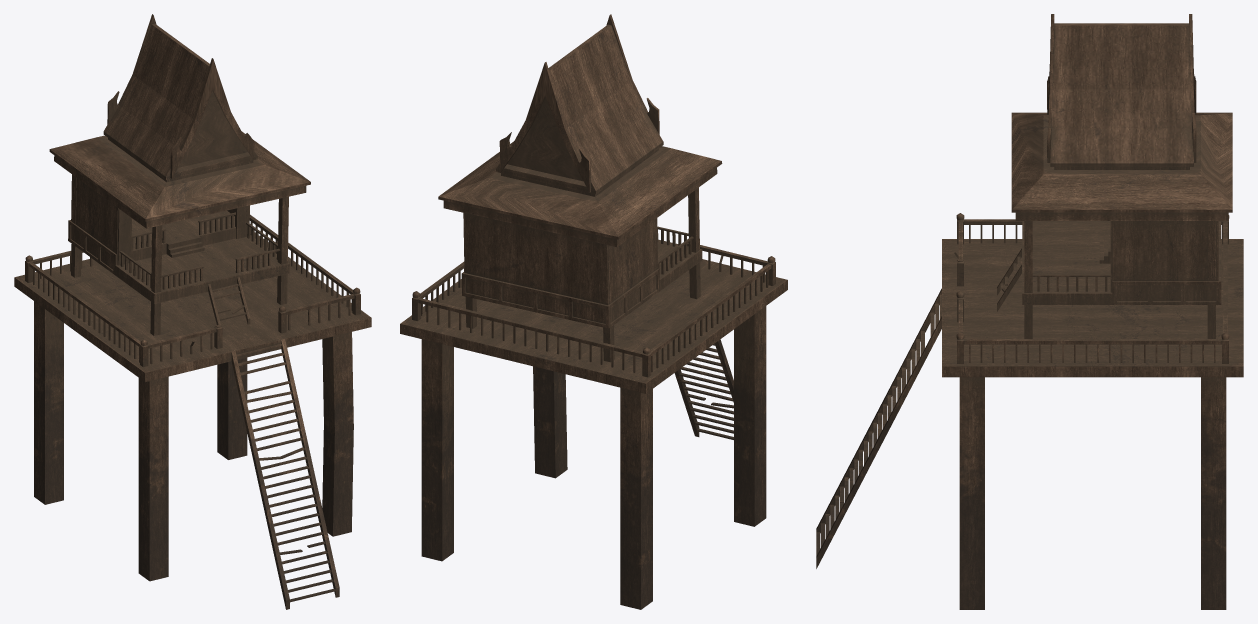
File: ShrineForPaint.fbx
The picture shows the model from 3 angles, left to right: view 1: azimuth 30°, elevation 25°; view 2: azimuth 150°, elevation 25°; view 3: azimuth 270°, elevation 25°; orthographic projection. The views are drawn at different scales.
Visible parts, largest first — view 1: Cube.005; view 2: Cube.005; view 3: Cube.005.
Part boxes in pixels (left/top/right/bottom): Cube.005: left=14, top=14, right=371, bottom=609; Cube.005: left=400, top=14, right=787, bottom=609; Cube.005: left=816, top=14, right=1243, bottom=609.
Bounding box in the file's own units: 0.6189 × 1.23 × 0.8772.
1 material, 1 textured.
